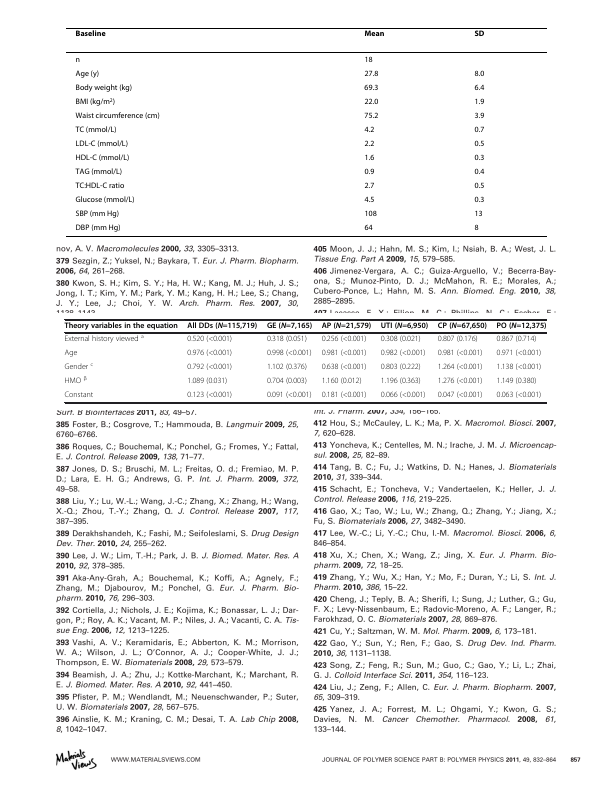borderless: (65, 26, 547, 236), (63, 318, 546, 402)
cell: (64, 322, 179, 331), (63, 333, 145, 345), (75, 111, 161, 121), (186, 322, 258, 331), (75, 195, 136, 205), (75, 83, 133, 93), (75, 153, 130, 163), (75, 139, 129, 149), (75, 181, 125, 191), (75, 167, 123, 177), (186, 335, 233, 345), (186, 349, 233, 359), (495, 349, 542, 359), (186, 363, 233, 373), (495, 363, 542, 373), (186, 391, 233, 401), (495, 391, 542, 401), (495, 322, 547, 331), (321, 335, 367, 345), (266, 349, 312, 359), (321, 349, 367, 359), (380, 349, 426, 359), (437, 349, 483, 359), (321, 363, 367, 373), (437, 363, 483, 373), (437, 377, 483, 387), (266, 391, 312, 401), (321, 391, 367, 401), (380, 391, 426, 401), (437, 391, 483, 401), (75, 223, 121, 233), (321, 322, 372, 331), (437, 322, 488, 331), (75, 209, 120, 219), (380, 322, 429, 331), (266, 322, 313, 331), (266, 335, 308, 345), (380, 335, 422, 345), (437, 335, 479, 345), (495, 335, 537, 345), (266, 363, 308, 373), (380, 363, 422, 373), (186, 377, 228, 387), (266, 377, 308, 387), (380, 377, 422, 387), (495, 377, 537, 387), (75, 125, 117, 135), (321, 377, 362, 387), (75, 97, 116, 107), (64, 361, 94, 373), (64, 391, 94, 401), (64, 375, 88, 387), (75, 29, 107, 37), (75, 69, 100, 79), (363, 29, 385, 37), (363, 69, 379, 79), (363, 83, 379, 93), (363, 97, 379, 107), (363, 111, 379, 121), (363, 209, 378, 219), (64, 349, 78, 359), (473, 69, 485, 79), (473, 83, 485, 93), (473, 97, 485, 107), (473, 111, 485, 121), (363, 125, 375, 135), (473, 125, 485, 135), (363, 139, 375, 149), (473, 139, 485, 149), (363, 153, 375, 163), (473, 153, 485, 163), (363, 167, 375, 177), (473, 167, 485, 177), (363, 181, 375, 191), (473, 181, 485, 191), (363, 195, 375, 205), (363, 55, 374, 65), (474, 195, 485, 205), (473, 209, 484, 219), (363, 223, 374, 233), (473, 29, 485, 37), (473, 223, 480, 233), (75, 55, 81, 65)
